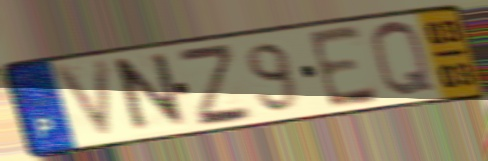9: (245, 40, 303, 113)
E: (304, 22, 383, 113)
N: (114, 48, 190, 138)
Q: (368, 19, 440, 101)
V: (48, 54, 119, 145)
Z: (172, 43, 258, 130)
